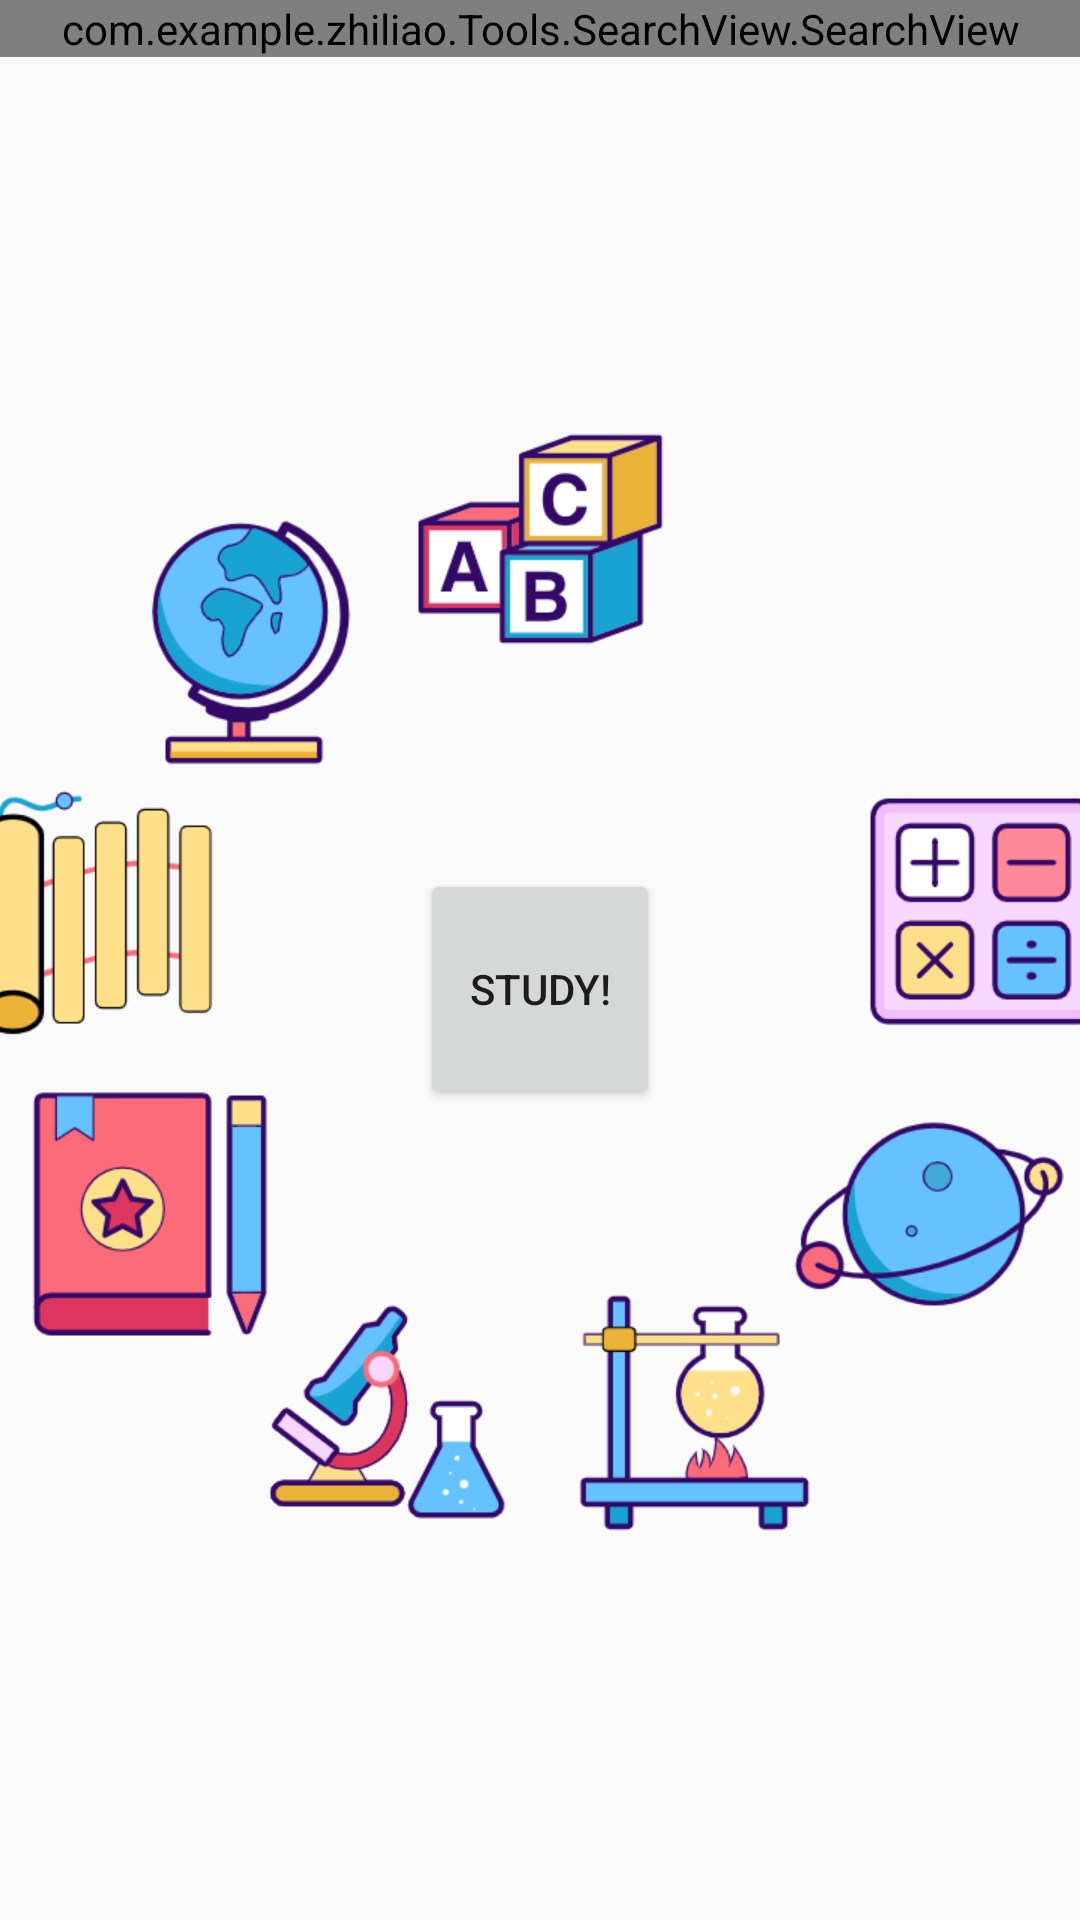

Icon bounding boxes for this 1080 x 1920 phone screenshot, format [x1=x1, y1=y1, x2=x2, y2=y2]:
biolgy: [x1=270, y1=1305, x2=505, y2=1519]
chemistry: [x1=580, y1=1295, x2=810, y2=1531]
english: [x1=418, y1=434, x2=663, y2=644]
gro: [x1=151, y1=520, x2=350, y2=764]
physics: [x1=795, y1=1122, x2=1064, y2=1306]
politcal: [x1=33, y1=1092, x2=267, y2=1336]
